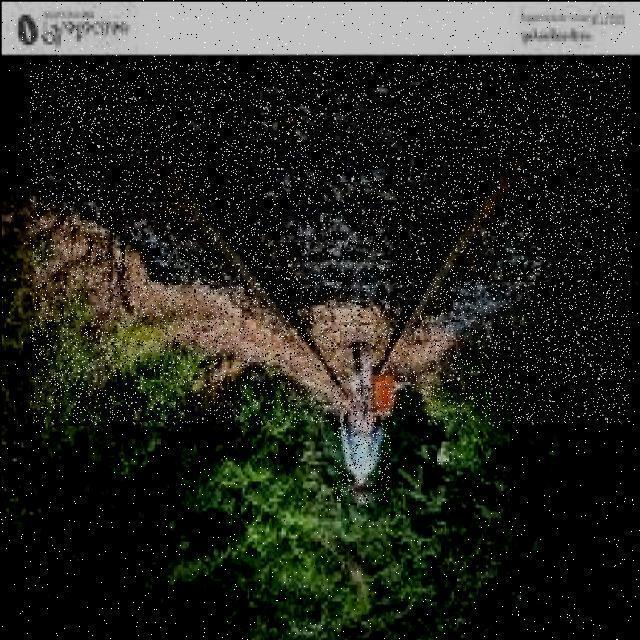rail: (31, 63, 631, 424)
